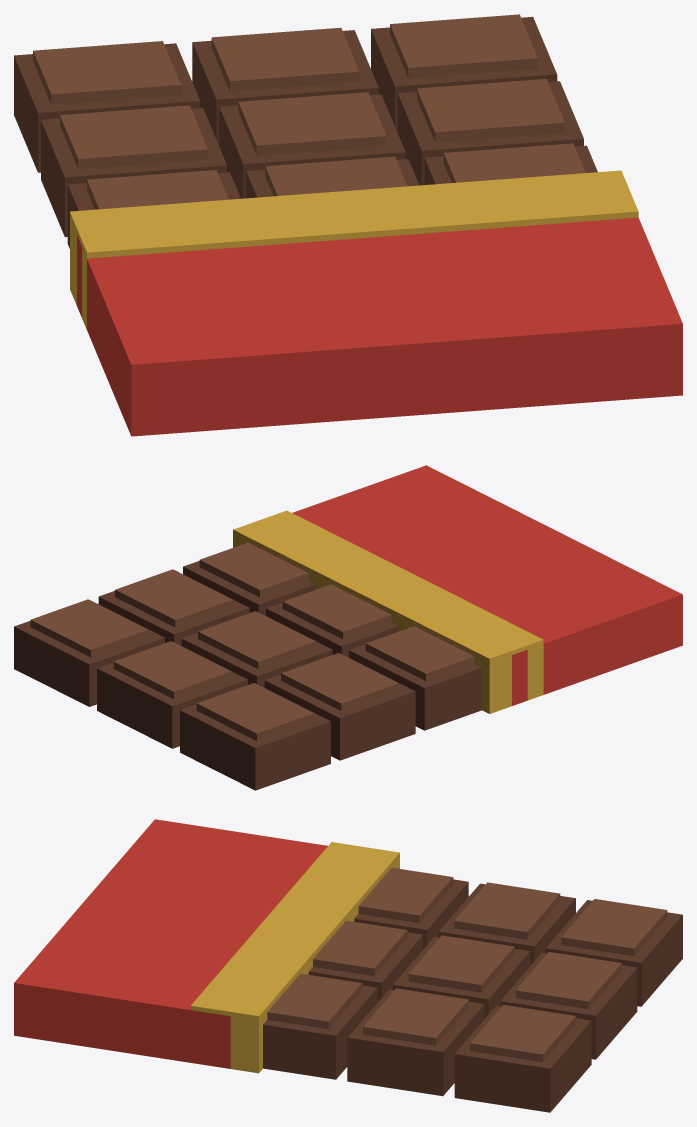
Rendered from Food_Chocolate.obj.
3 renders of one model, top to bottom at view 1: azimuth 30°, elevation 25°; view 2: azimuth 150°, elevation 25°; view 3: azimuth 270°, elevation 25°, orthographic. The views are drawn at different scales.
Bounding box in the file's own units: 2.35 × 0.26 × 2.76.
